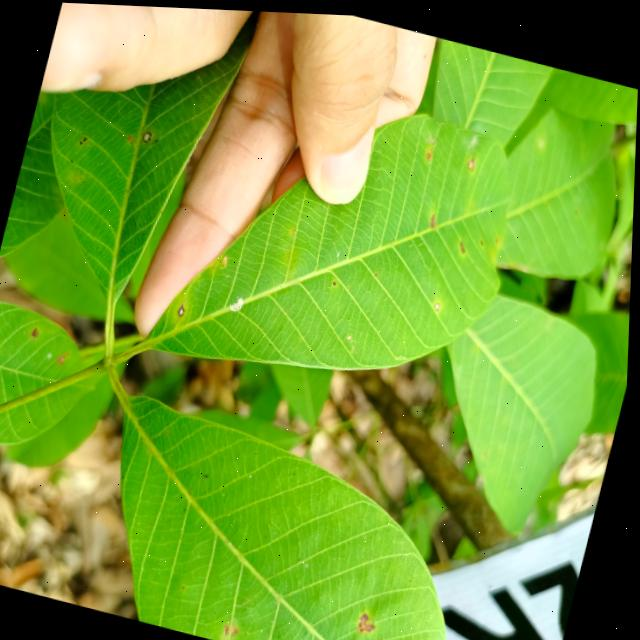Colletotrichum: (142, 129, 152, 141), (32, 326, 41, 337), (466, 154, 474, 166), (179, 304, 187, 315), (434, 297, 440, 307), (333, 277, 337, 282)
